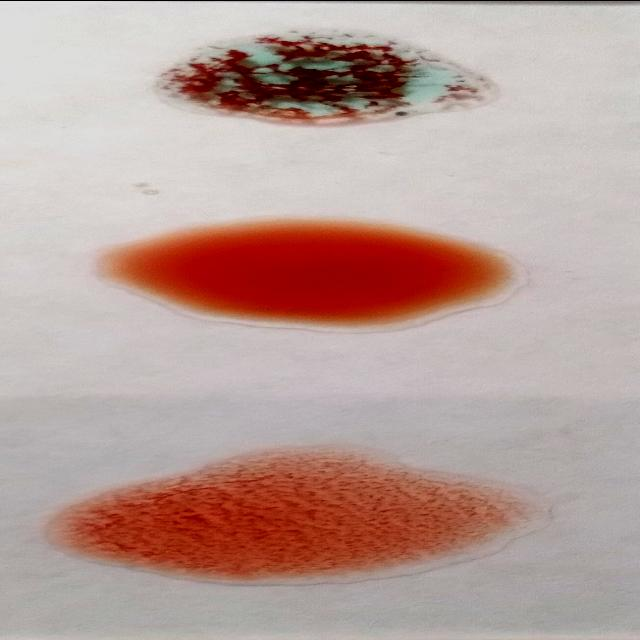A: (161, 33, 502, 123)
D: (52, 451, 532, 580)
